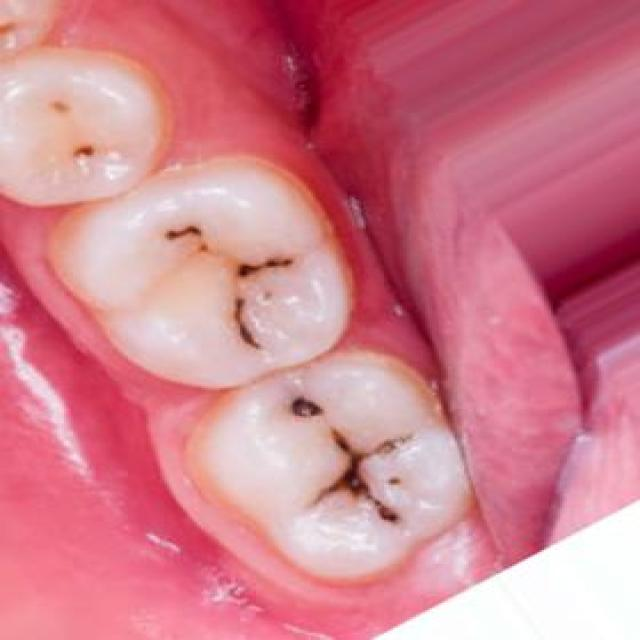caries: (285, 425, 434, 538), (209, 283, 280, 356), (264, 368, 336, 438), (210, 239, 304, 292), (142, 206, 222, 264), (51, 128, 125, 180), (34, 82, 99, 138)
